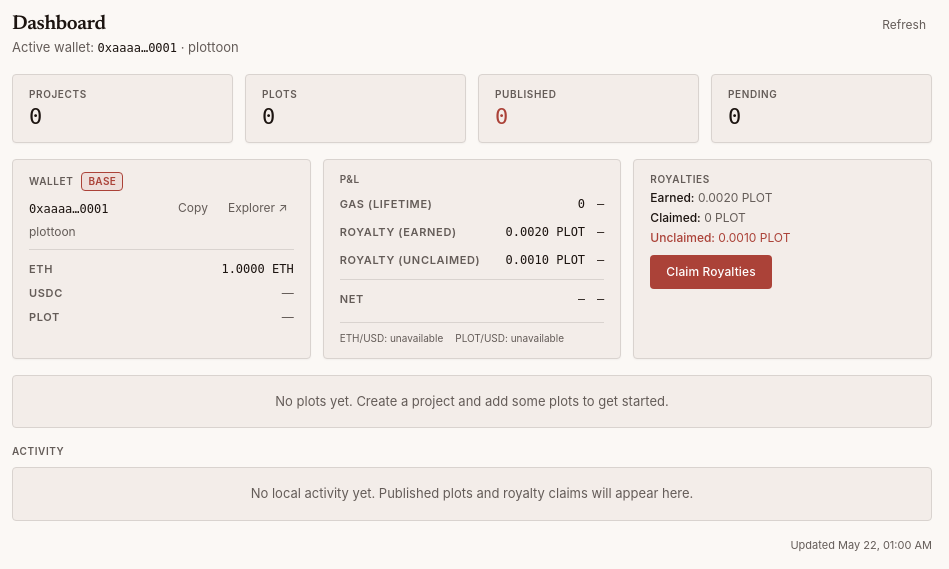
Test case: Dashboard wallet scoping (#222) › shows the active wallet address as context inside the royalty claim confirmation
The image size is (949, 569).
Click the button "Claim Royalties". click: (711, 272)
box: [650,255,772,289]
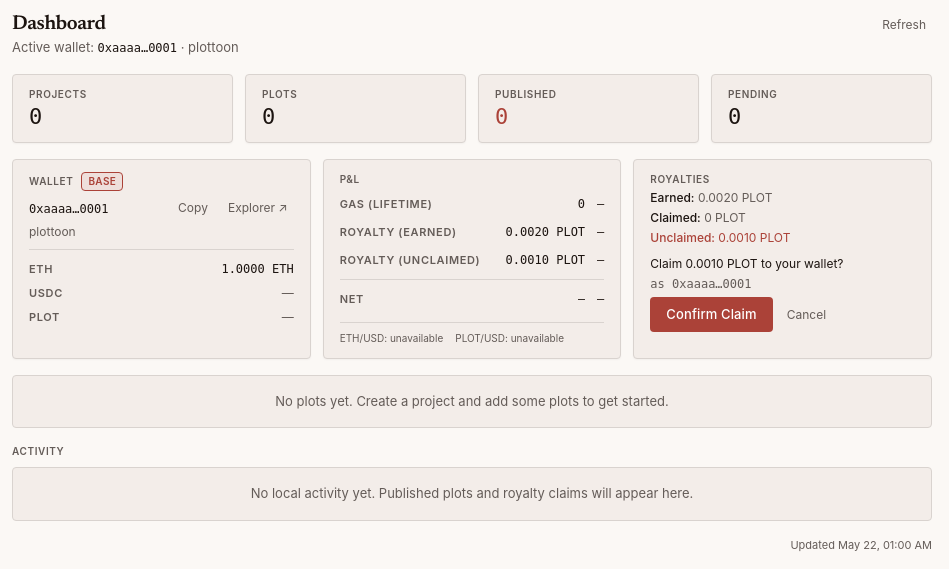
Expected: the text with test id "royalty-confirm-wallet" shows "0xaaaa", [672,277,752,291]
Expected: the text with test id "royalty-confirm-wallet" shows "as", [650,277,672,291]
